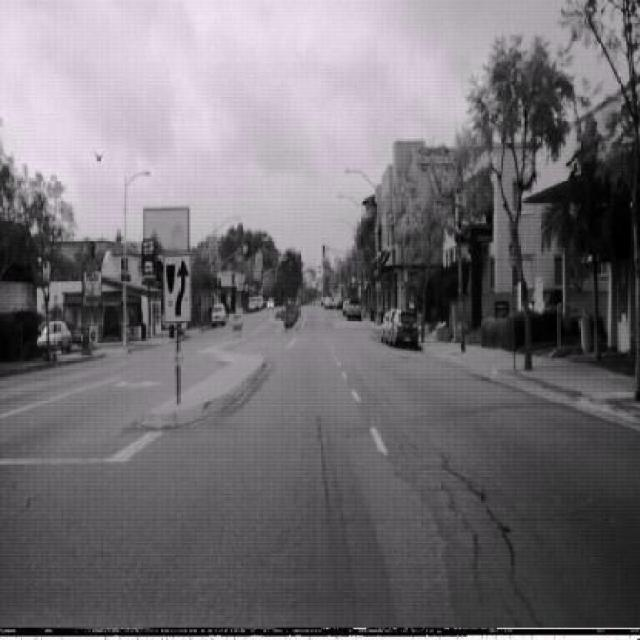keepRight: (163, 252, 192, 324)
